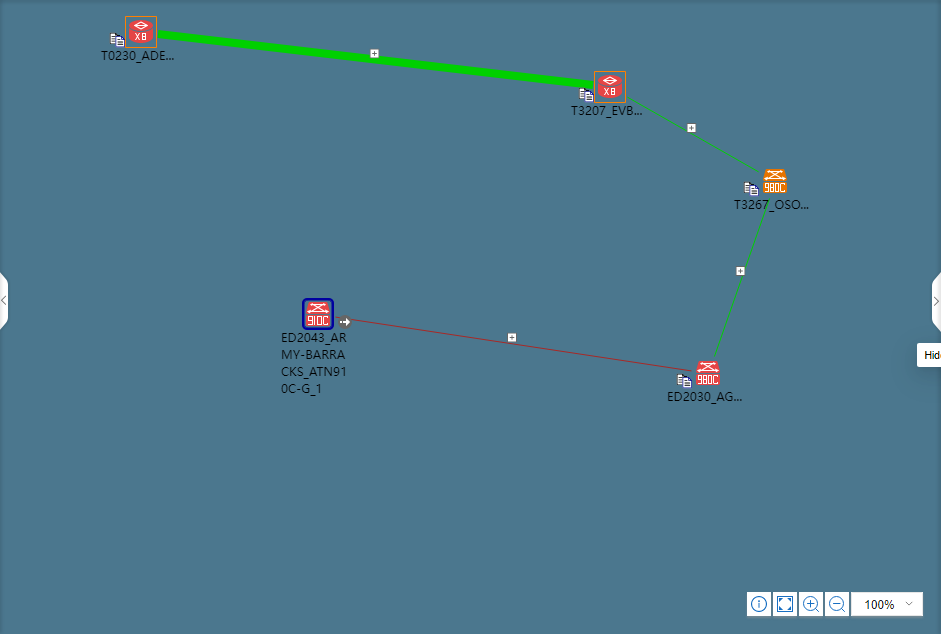ATN_Orange: (762, 167, 790, 195)
ATN_Red: (303, 302, 337, 330), (697, 361, 719, 389)
Link_Green: (156, 32, 591, 88), (626, 91, 757, 177), (709, 196, 770, 358)
Link_Red: (338, 314, 695, 370)
Router_Red: (126, 14, 160, 48), (597, 73, 623, 107)
